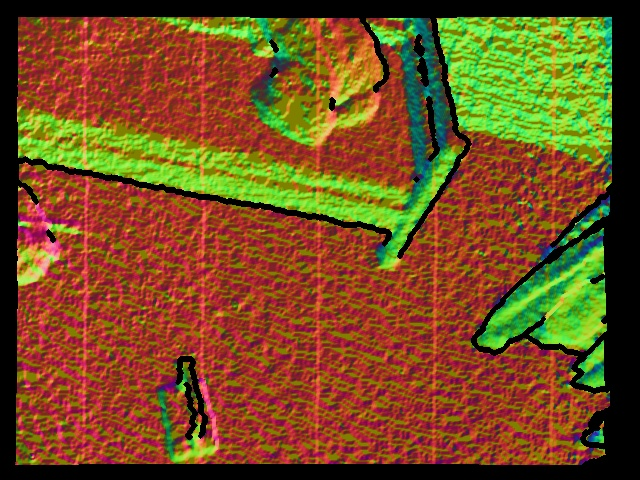station: (159, 358, 220, 465)
